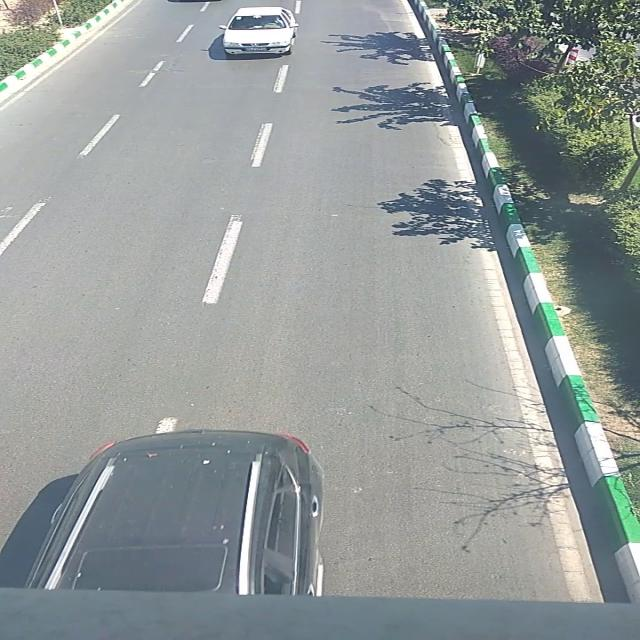car: (26, 432, 332, 596), (218, 8, 300, 58)
